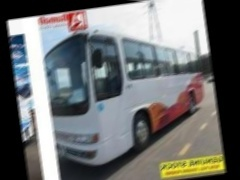bus: (42, 13, 213, 170)
